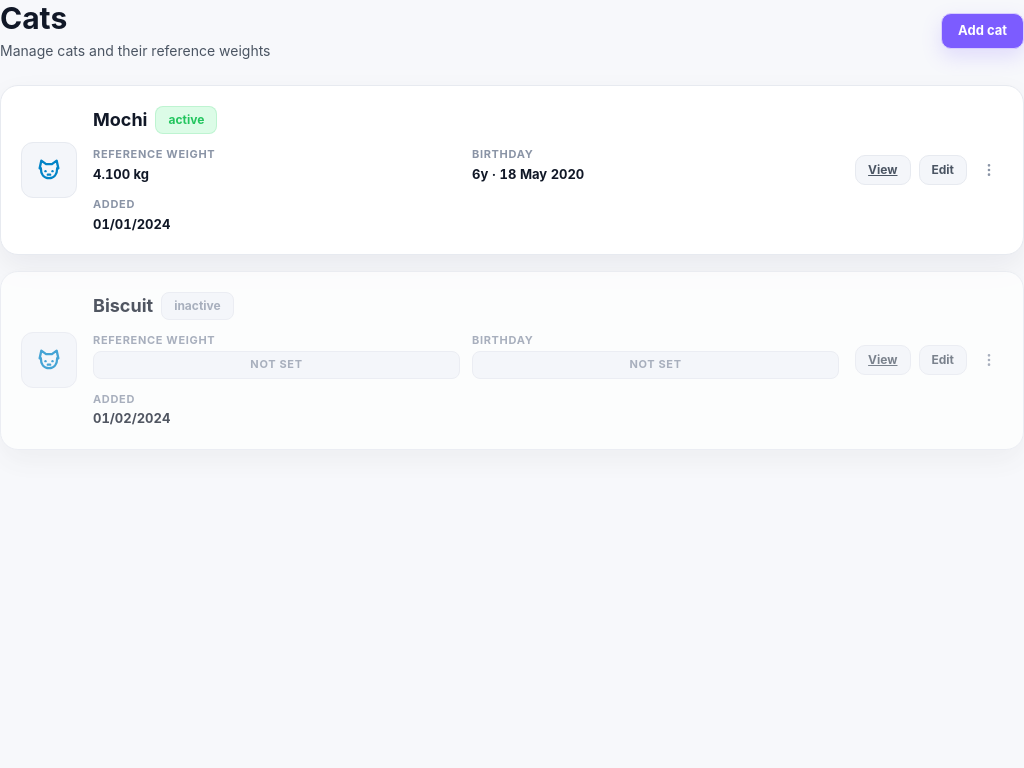
Scenario: Cats page › handleCreate › shows an error toast when create fails
Click the button "Add cat": [982, 30] box [941,12,1023,48]
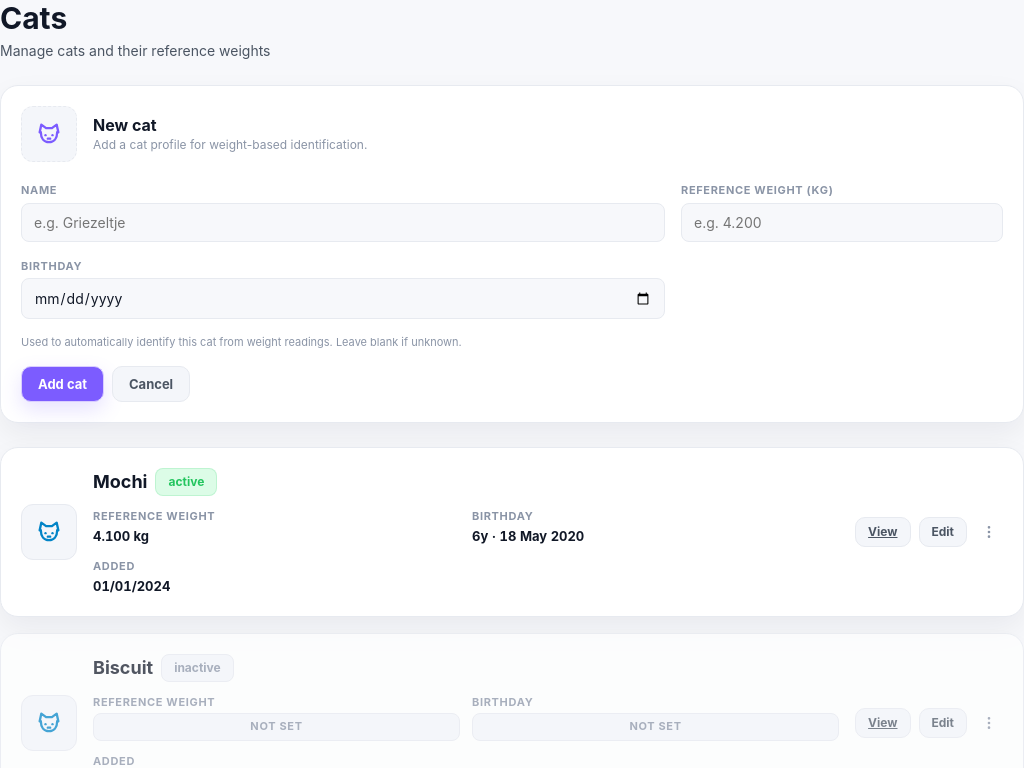
In the field with placeholder "e.g. Griezeltje": [343, 222] box [21,202,665,242], type "Whisker"
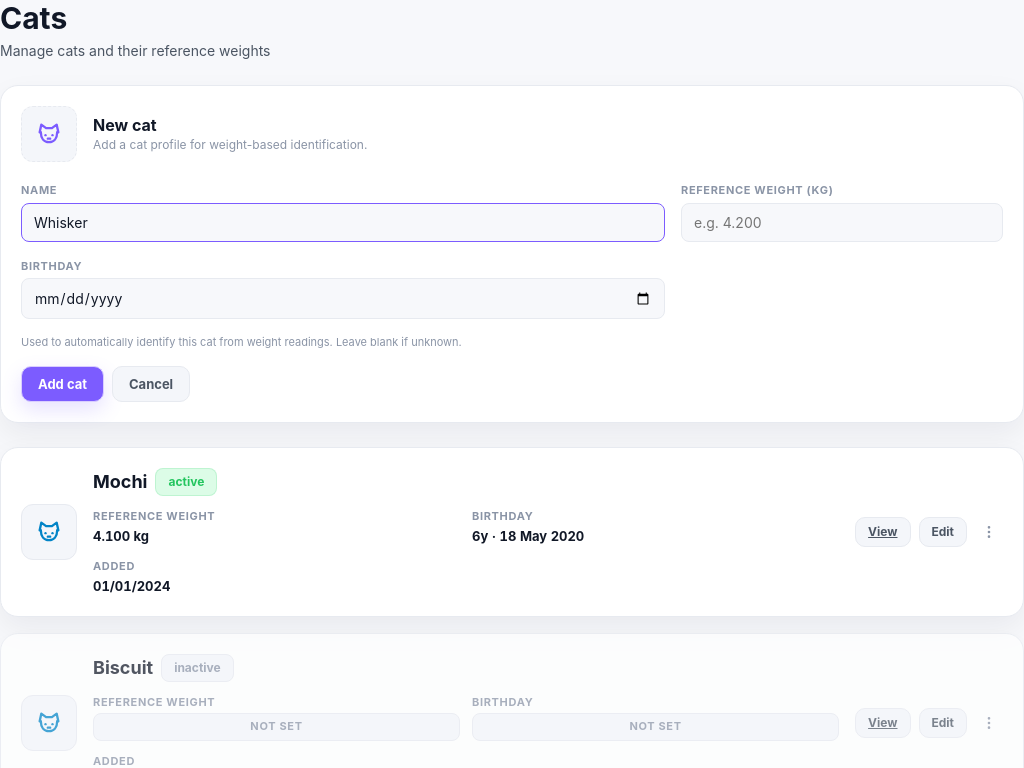
Click the button "Add cat": [62, 384] box [21,366,104,402]
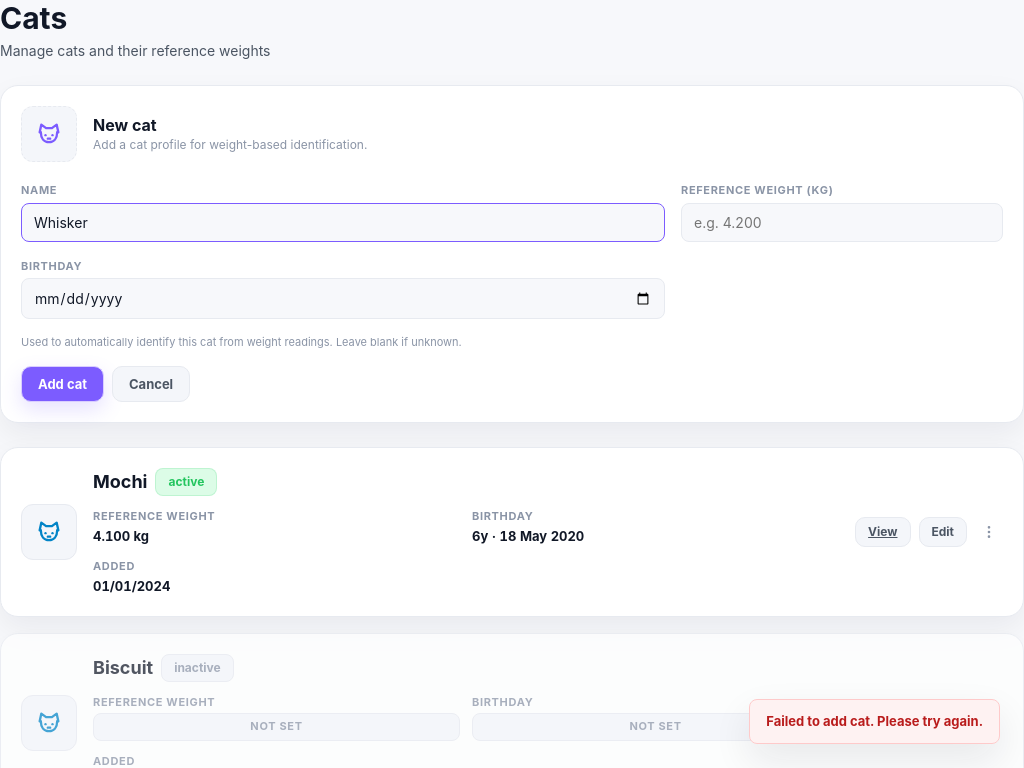
Result: the message shows "Failed to add cat" at [766,712,983,728]
